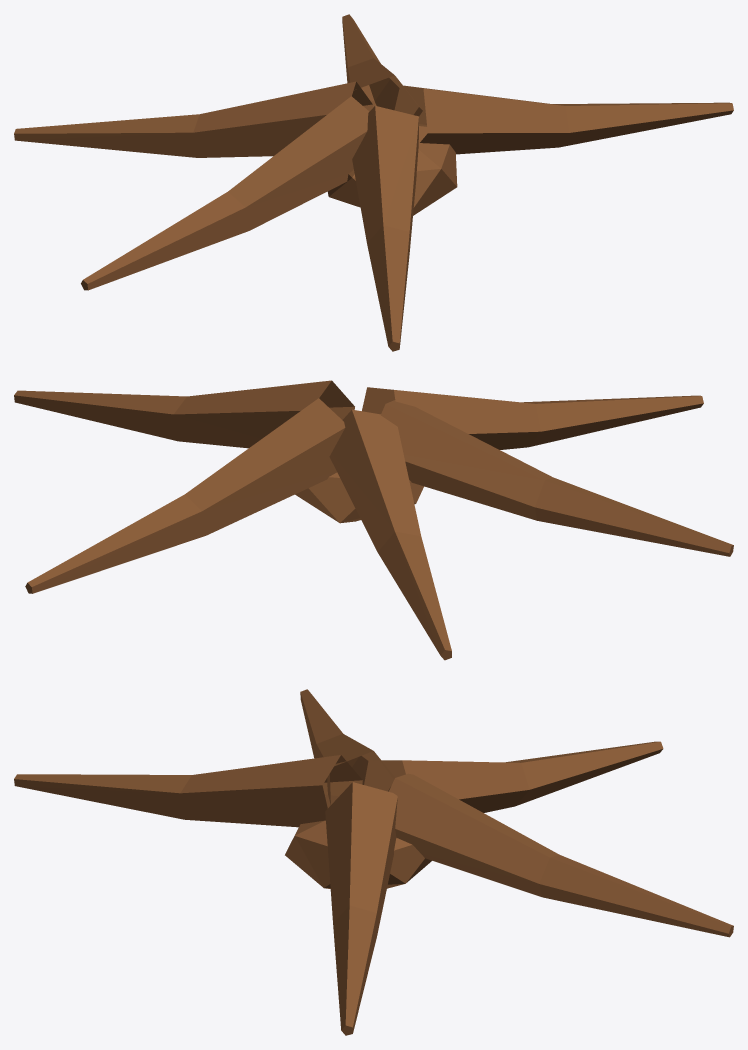
File: HS_LP_Roots_01.fbx
The picture shows the model from 3 angles, top to bottom: view 1: azimuth 30°, elevation 25°; view 2: azimuth 150°, elevation 25°; view 3: azimuth 270°, elevation 25°; orthographic projection. The views are drawn at different scales.
Parts seen in each view (by area): view 1: HS_LP_Roots_01; view 2: HS_LP_Roots_01; view 3: HS_LP_Roots_01.
Boxes of the visible parts, x1,y1,x2,y2 form: HS_LP_Roots_01: (14, 14, 733, 351); HS_LP_Roots_01: (14, 380, 733, 660); HS_LP_Roots_01: (14, 689, 733, 1035).
Bounding box in the file's own units: 147 × 25.96 × 133.
